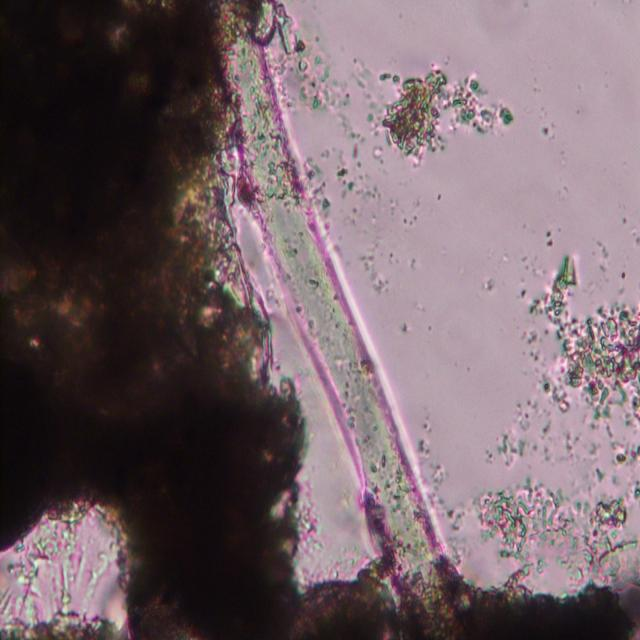Background material: (0, 0, 304, 637), (502, 249, 640, 467), (475, 483, 640, 585), (375, 59, 513, 164), (465, 578, 640, 640), (284, 568, 400, 638), (262, 2, 332, 108), (332, 106, 382, 212), (294, 146, 336, 225), (361, 252, 397, 296), (614, 214, 640, 246), (539, 121, 555, 142), (544, 223, 556, 249), (395, 317, 412, 335), (483, 276, 494, 289)
Microfibre: (220, 24, 462, 623)
